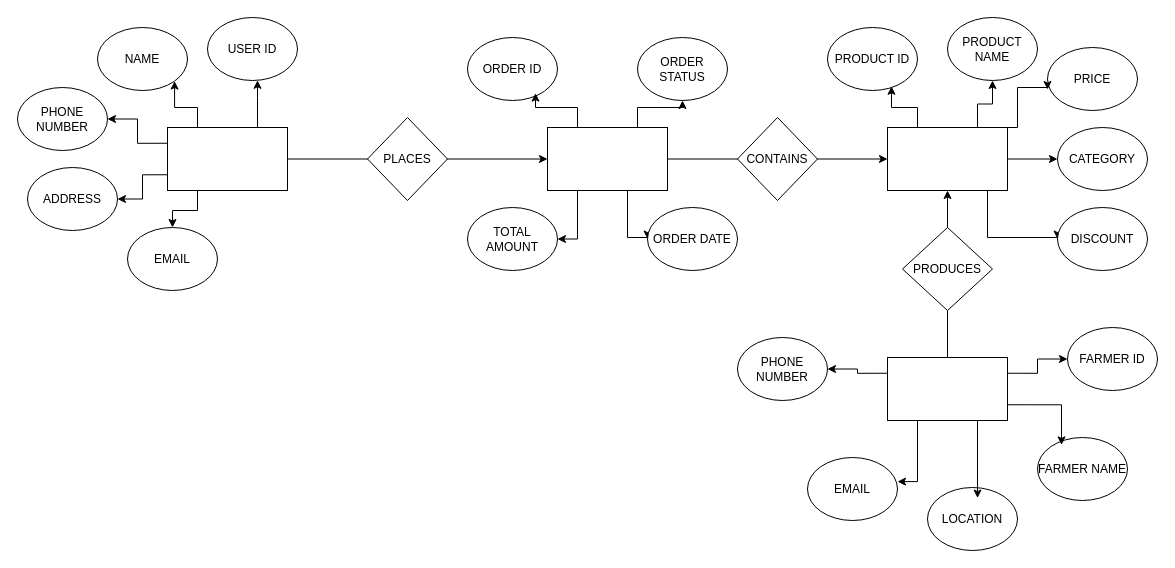
Image size: 1175x568. Some labels were removed from this diagram. The centre of each missing label's shape, as x and y in pixels:
FARMER: the point at 947,388
ORDER: the point at 607,158
PRODUCT: the point at 947,158
USER: the point at 227,158
